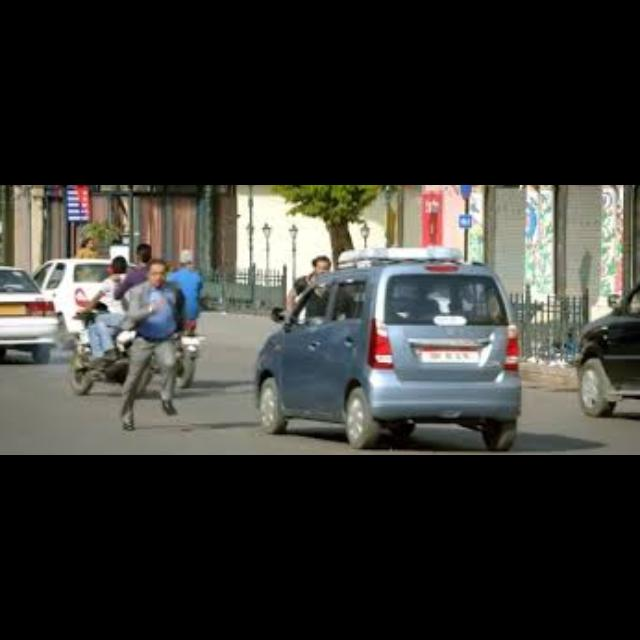vehicles: (257, 242, 523, 450), (576, 276, 638, 418), (0, 265, 60, 357)
